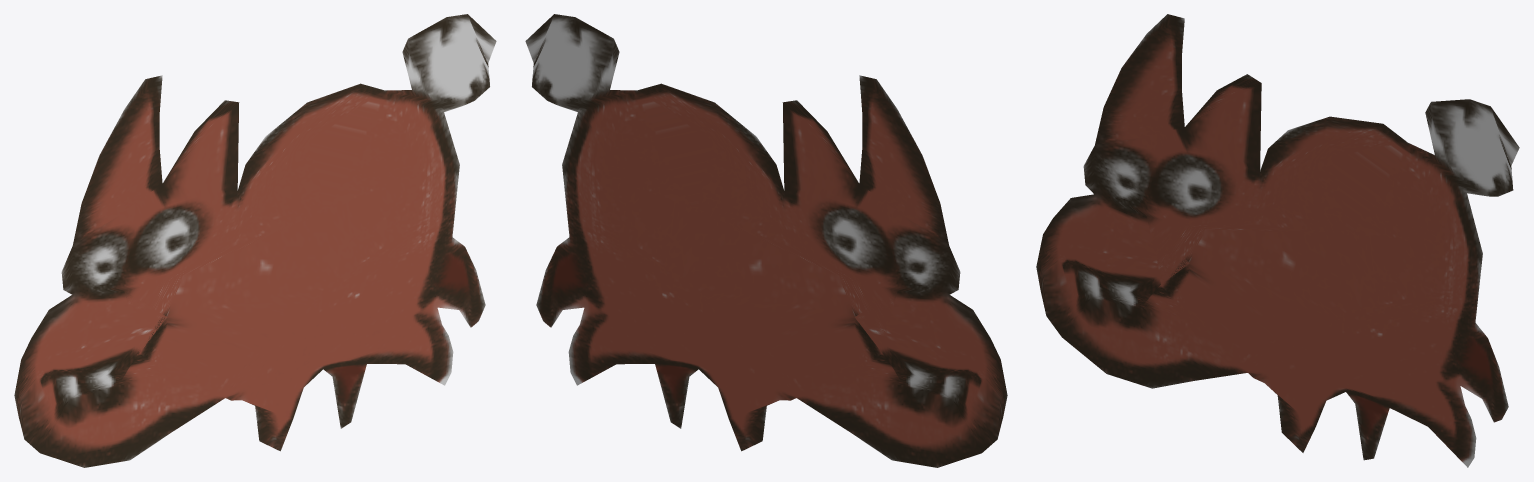
Rendered from monster.fbx.
3 views of the same model, side by side, from view 1: azimuth 30°, elevation 25°; view 2: azimuth 150°, elevation 25°; view 3: azimuth 330°, elevation 25° (orthographic).
Visible parts, largest first — view 1: Plane; view 2: Plane; view 3: Plane.
Part boxes in pixels (box(x1,y1,x2,y2)): Plane: box(14, 14, 496, 467); Plane: box(525, 14, 1007, 467); Plane: box(1036, 14, 1519, 467).
Bounding box in the file's own units: 389 × 313 × 3.15e-05.
